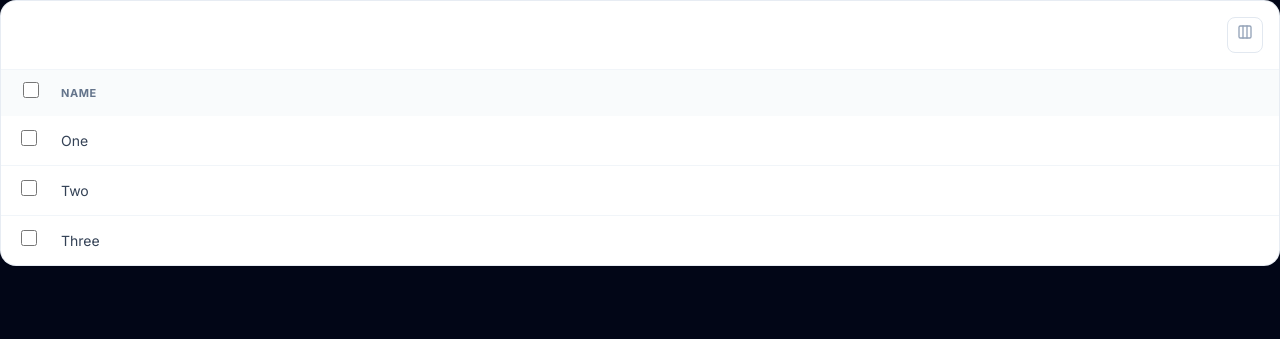
Test: bulk select › rows chuno => bar, action ko sirf chuni rows
Click the checkbox named "Select row" next to "One": (29, 138) [21,130,37,146]
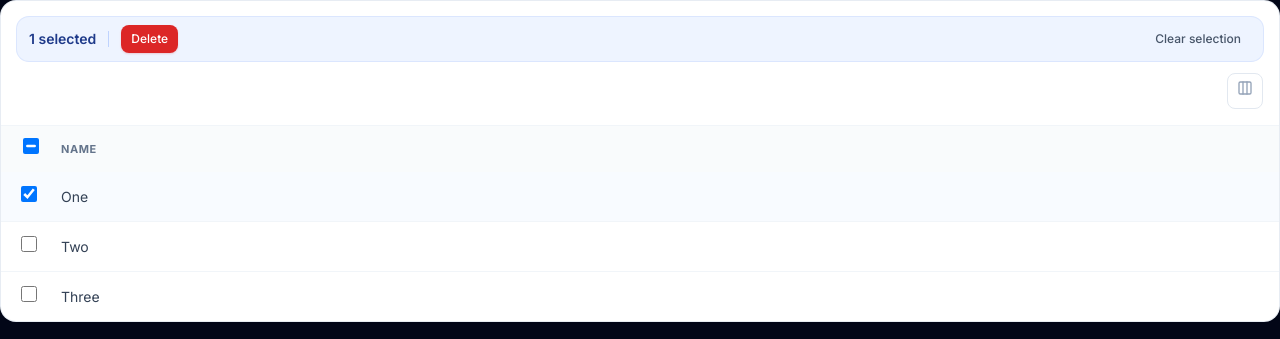
Click the checkbox named "Select row" next to "Three": (29, 294) [21,286,37,302]
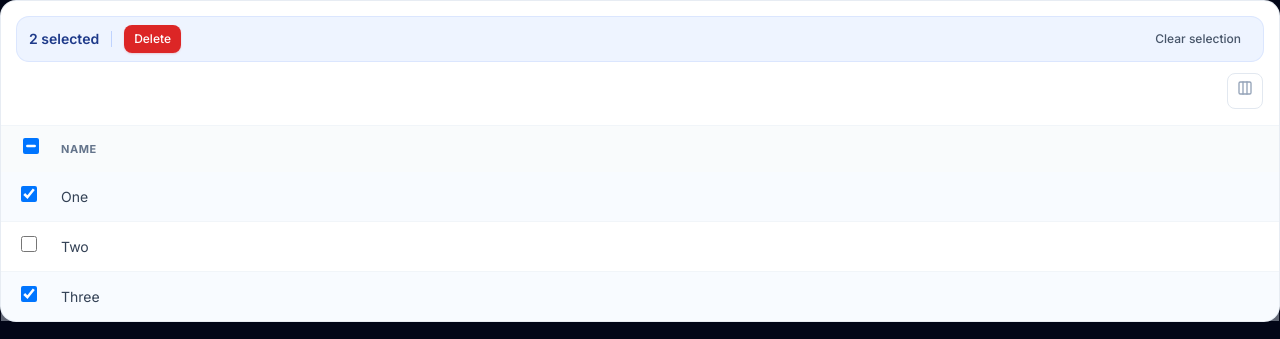
expect the text "2 selected" is shown: met, box [29,29,99,49]
Click the button "Delete": (153, 39) [124,25,181,53]
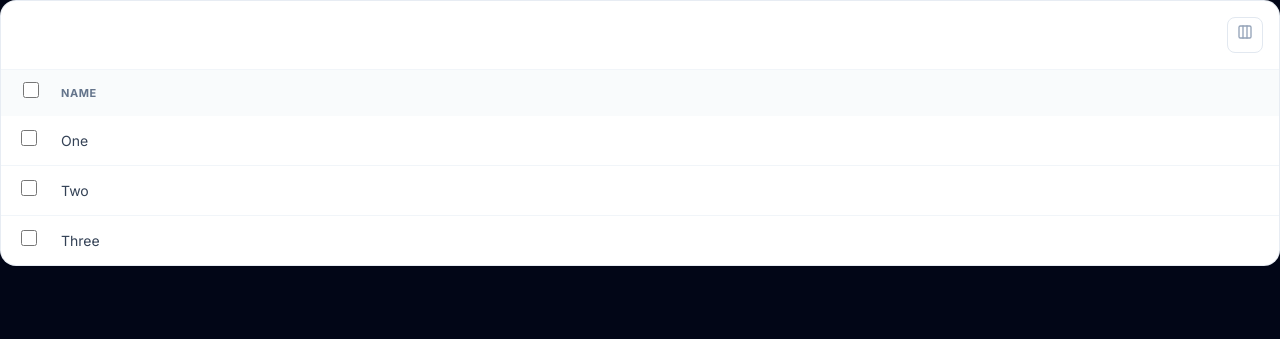
expect the text "2 selected" is gone: met
Click the checkbox named "Select all rows": (31, 90) [23,82,39,98]
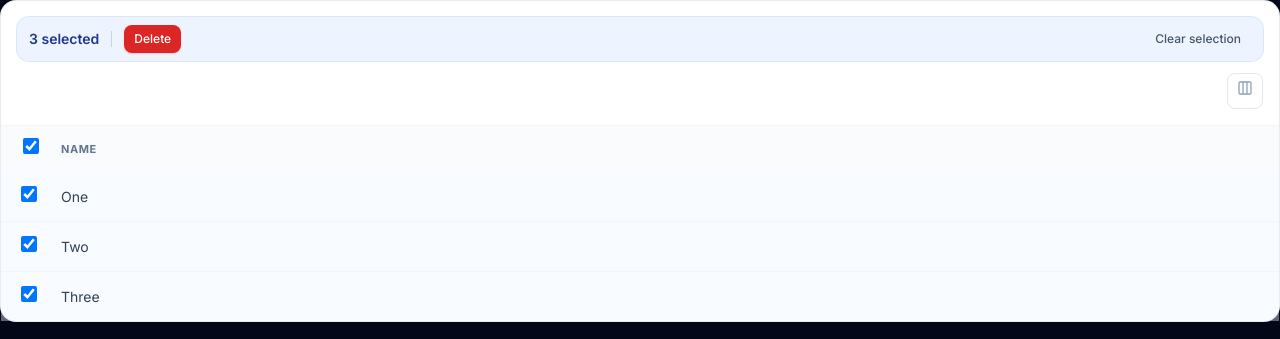
expect the text "3 selected" is shown: met, box [29,29,99,49]
Click the button "Clear selection": (1198, 39) [1145,25,1251,53]
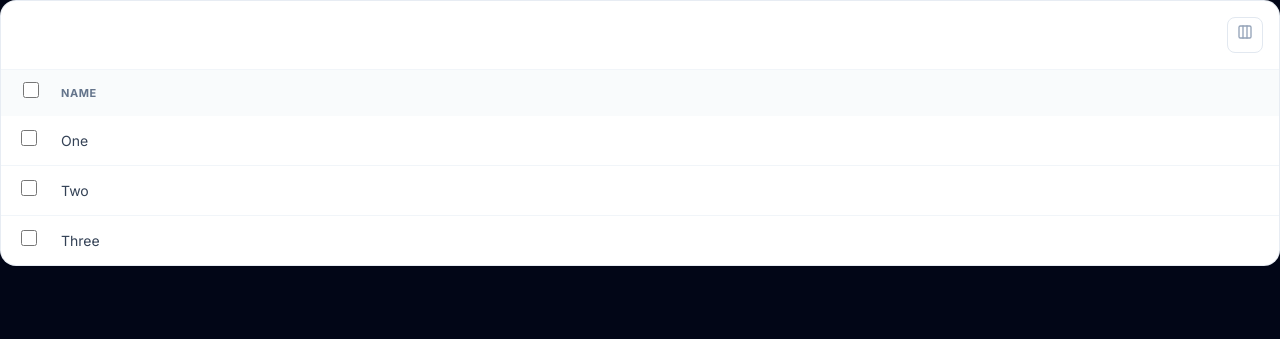
expect the text "3 selected" is gone: met
